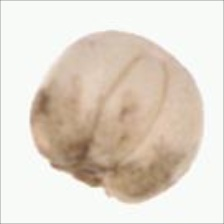L5: (77, 52, 170, 174), (51, 155, 123, 202), (139, 35, 193, 80)
L6: (24, 27, 207, 206)
